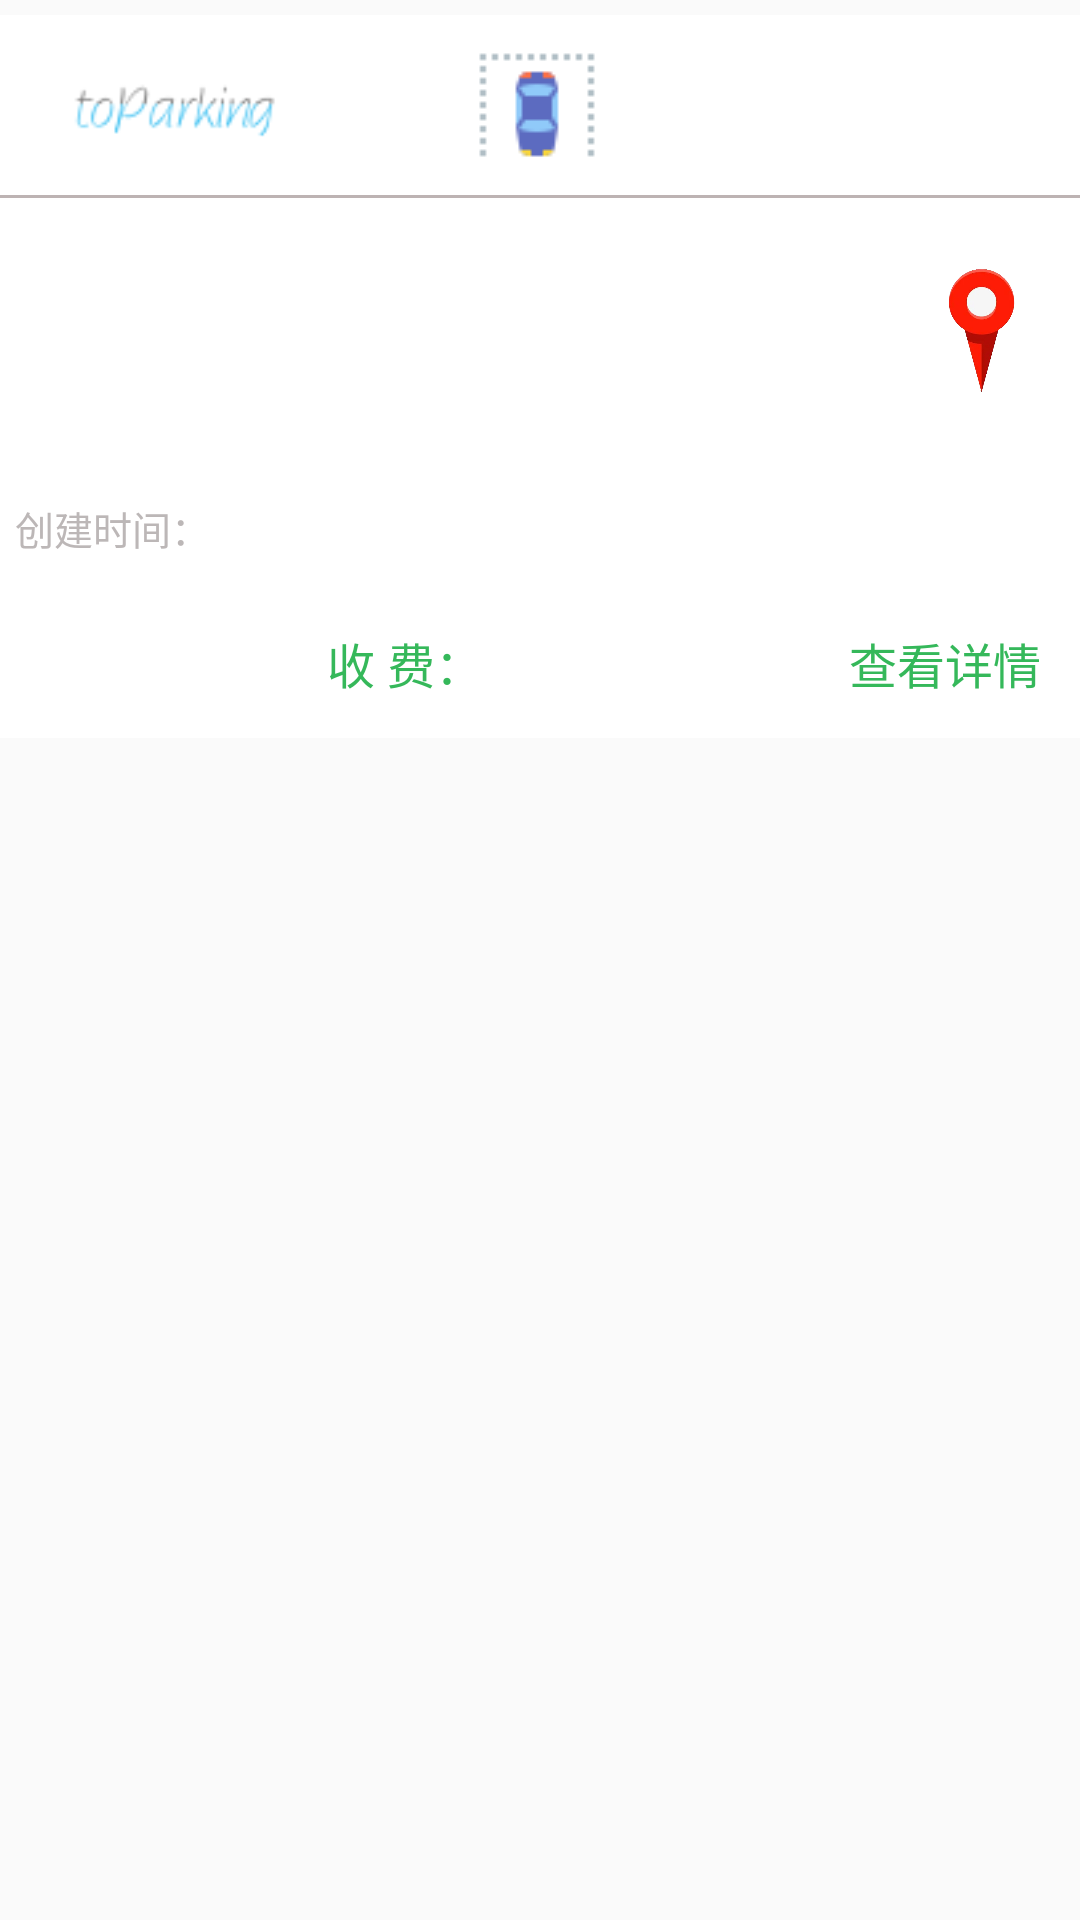

Icons on this 1080*1920 Android screen, each with its box as (x1, y1, x2, y2):
location: (949, 269, 1014, 392)
